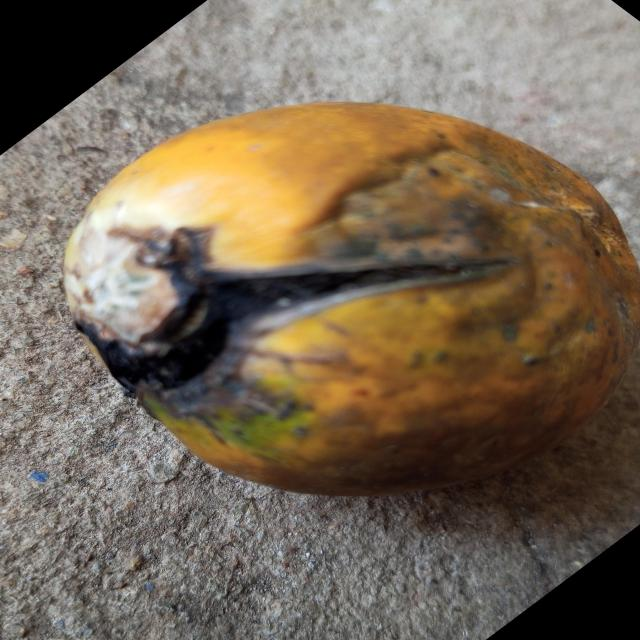damaged: (64, 103, 638, 495)
